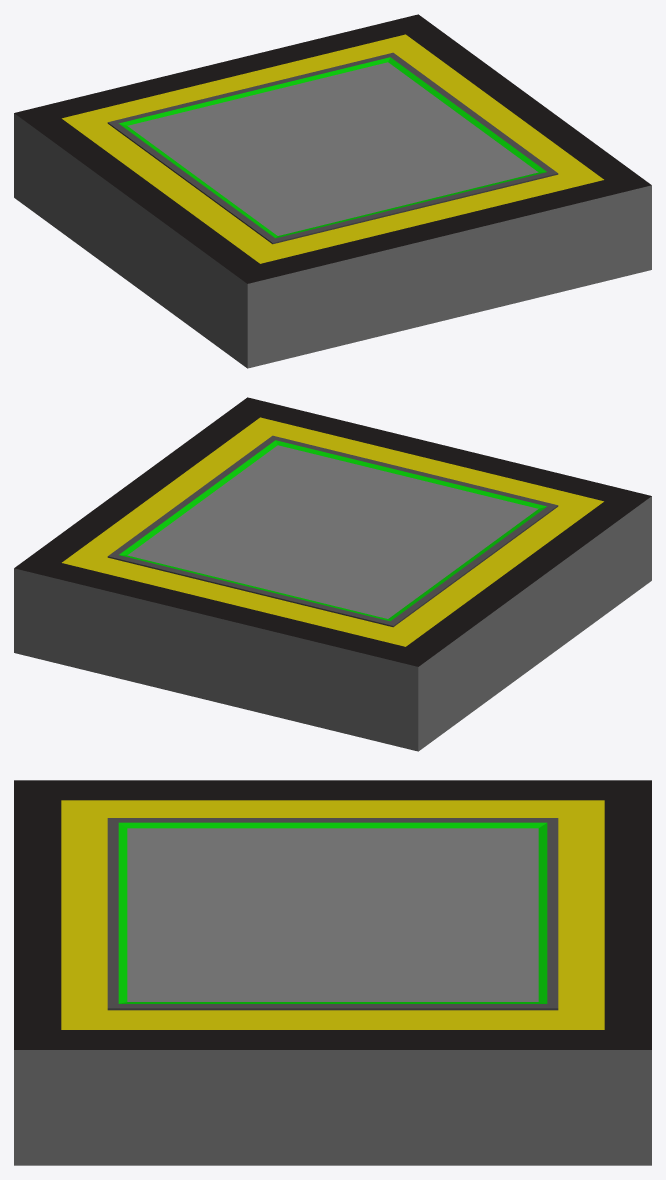
Rendered from Robot_Floor.fbx.
3 renders of one model, top to bottom at view 1: azimuth 30°, elevation 25°; view 2: azimuth 150°, elevation 25°; view 3: azimuth 270°, elevation 25°, orthographic. The views are drawn at different scales.
Parts seen in each view (by area): view 1: Robot_Floor; view 2: Robot_Floor; view 3: Robot_Floor.
Boxes of the visible parts, left/top/right/bottom form: Robot_Floor: left=14, top=14, right=651, bottom=368; Robot_Floor: left=14, top=397, right=651, bottom=751; Robot_Floor: left=14, top=780, right=651, bottom=1165.
Size of the model in its own units: 5 by 5 by 1.02.
